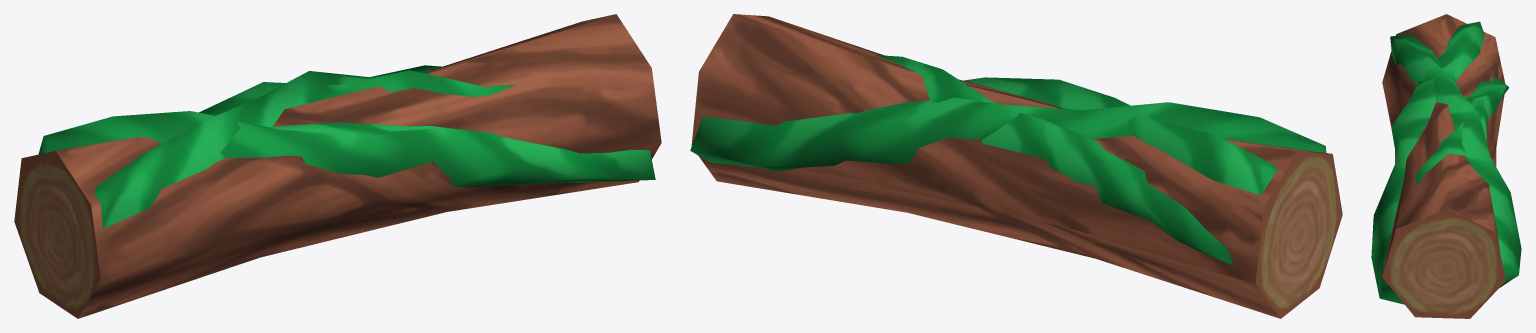
The model's file is jungleLog -1.fbx.
3 views of the same model, side by side, from view 1: azimuth 30°, elevation 25°; view 2: azimuth 150°, elevation 25°; view 3: azimuth 270°, elevation 25° (orthographic). The views are drawn at different scales.
Visible parts, largest first — view 1: jungleLog -1; view 2: jungleLog -1; view 3: jungleLog -1.
Boxes of the visible parts, left/top/right/bottom form: jungleLog -1: left=14, top=14, right=661, bottom=318; jungleLog -1: left=690, top=14, right=1342, bottom=318; jungleLog -1: left=1371, top=14, right=1521, bottom=318.
Size of the model in its own units: 156 by 50.86 by 43.42.
1 material, 1 textured.
